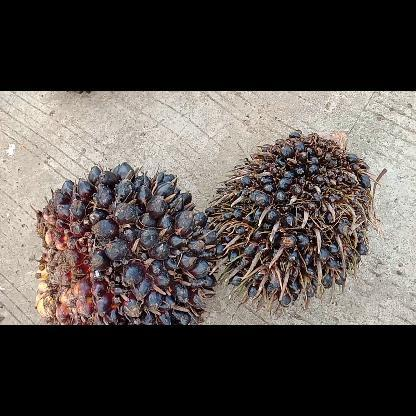TBS mentah: (204, 128, 379, 309), (31, 162, 221, 324)
